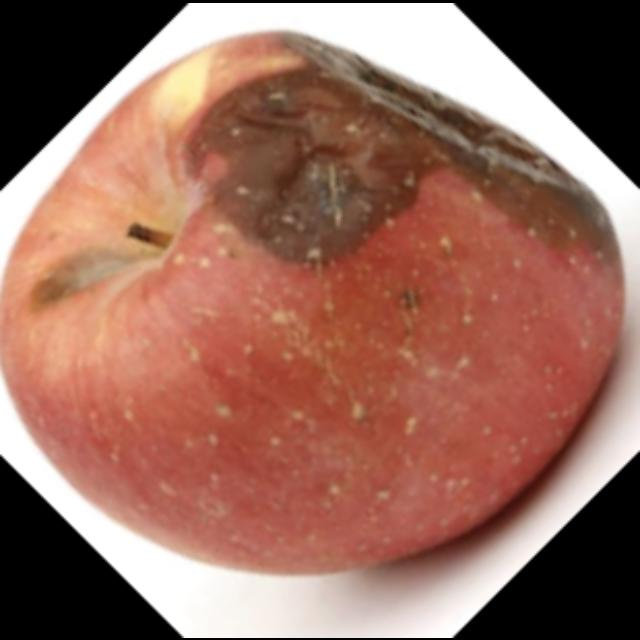Apel Tidak Segar: (5, 28, 623, 576)
